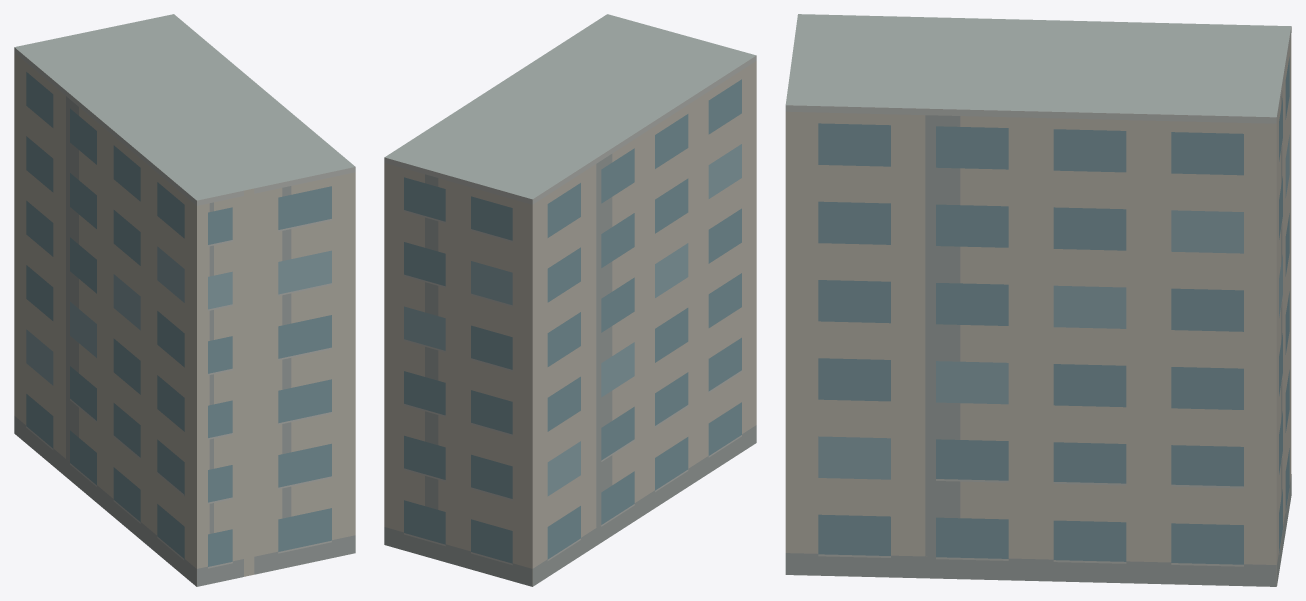
The model's file is survey-upis-32831713.glb.
3 renders of one model, left to right at view 1: azimuth 30°, elevation 25°; view 2: azimuth 150°, elevation 25°; view 3: azimuth 270°, elevation 25°, orthographic. The views are drawn at different scales.
Parts seen in each view (by area): view 1: survey-upis-32831713.tmp; view 2: survey-upis-32831713.tmp; view 3: survey-upis-32831713.tmp.
Boxes of the visible parts, x1,y1,x2,y2 form: survey-upis-32831713.tmp: (14, 14, 355, 586); survey-upis-32831713.tmp: (384, 14, 756, 586); survey-upis-32831713.tmp: (785, 14, 1291, 586).
Bounding box in the file's own units: 8.35 × 17.67 × 17.26.
